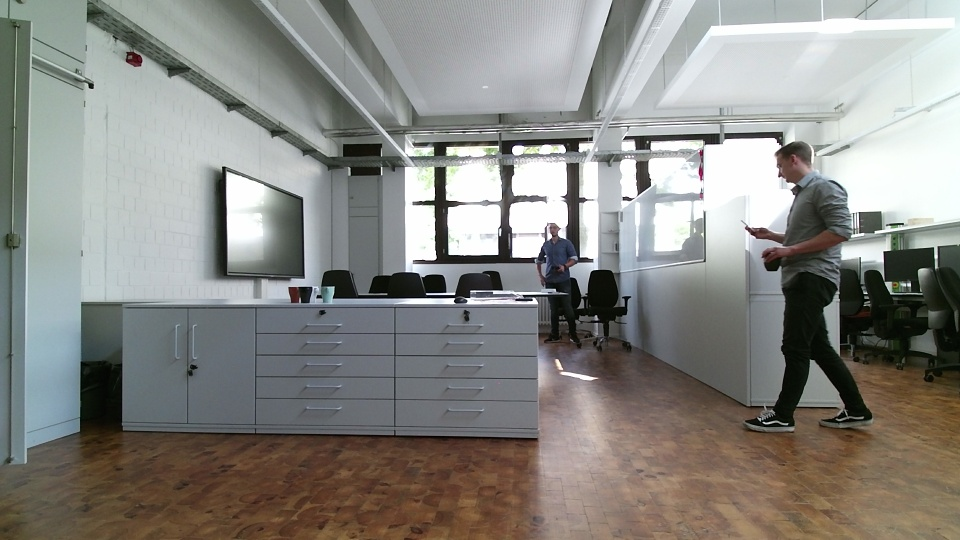Person: (739, 138, 876, 436), (533, 220, 585, 349)
